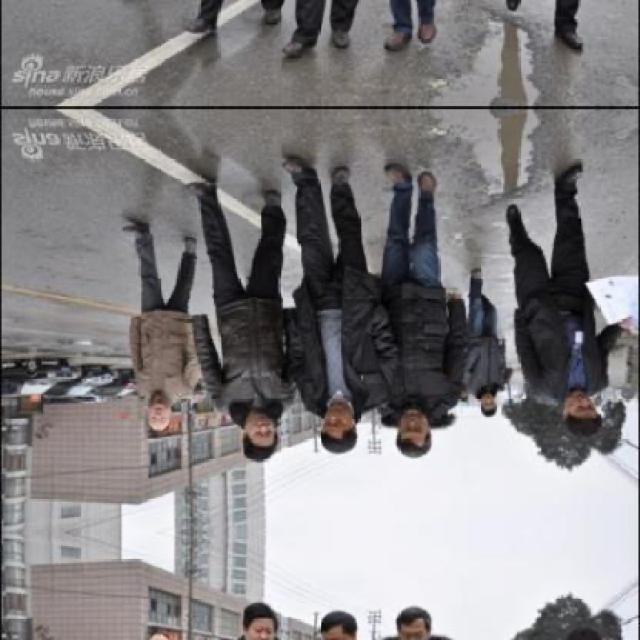sin casco: (128, 375, 190, 451), (378, 410, 442, 470), (237, 401, 291, 458), (312, 388, 355, 458), (556, 379, 604, 441)
